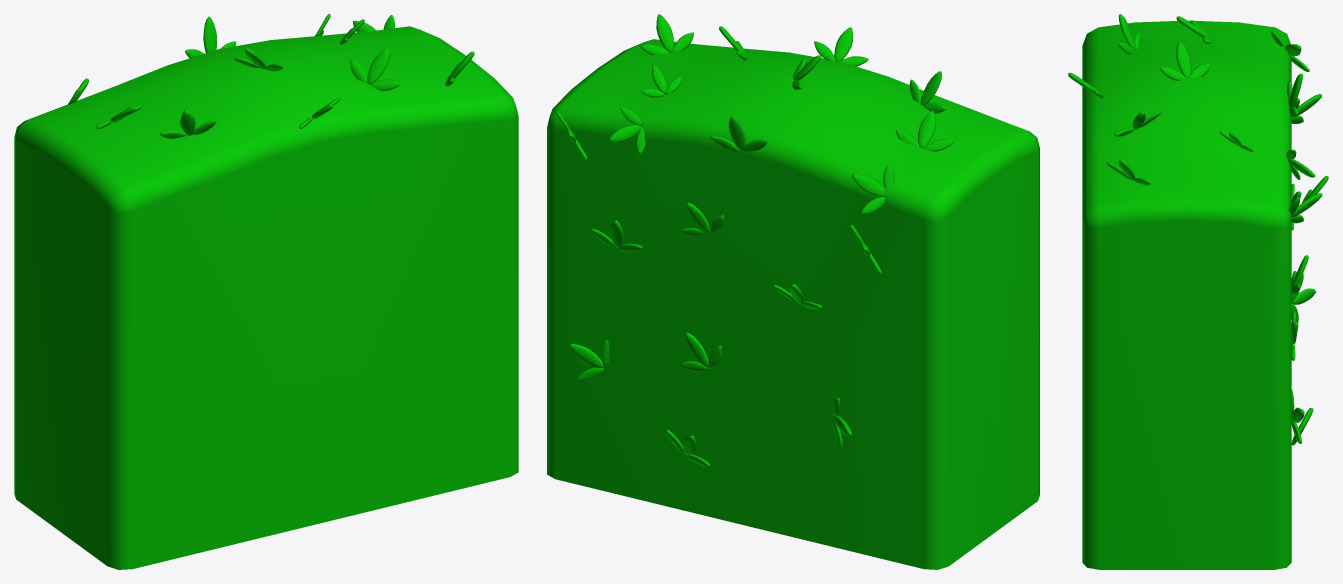
The model's file is bush_02.fbx.
The picture shows the model from 3 angles, left to right: view 1: azimuth 30°, elevation 25°; view 2: azimuth 150°, elevation 25°; view 3: azimuth 270°, elevation 25°; orthographic projection. The views are drawn at different scales.
Visible parts, largest first — view 1: bush_2; view 2: bush_2; view 3: bush_2.
Boxes of the visible parts, x1,y1,x2,y2 form: bush_2: [14, 14, 518, 569]; bush_2: [547, 14, 1039, 569]; bush_2: [1068, 14, 1328, 569].
Bounding box in the file's own units: 311 × 321 × 180.
